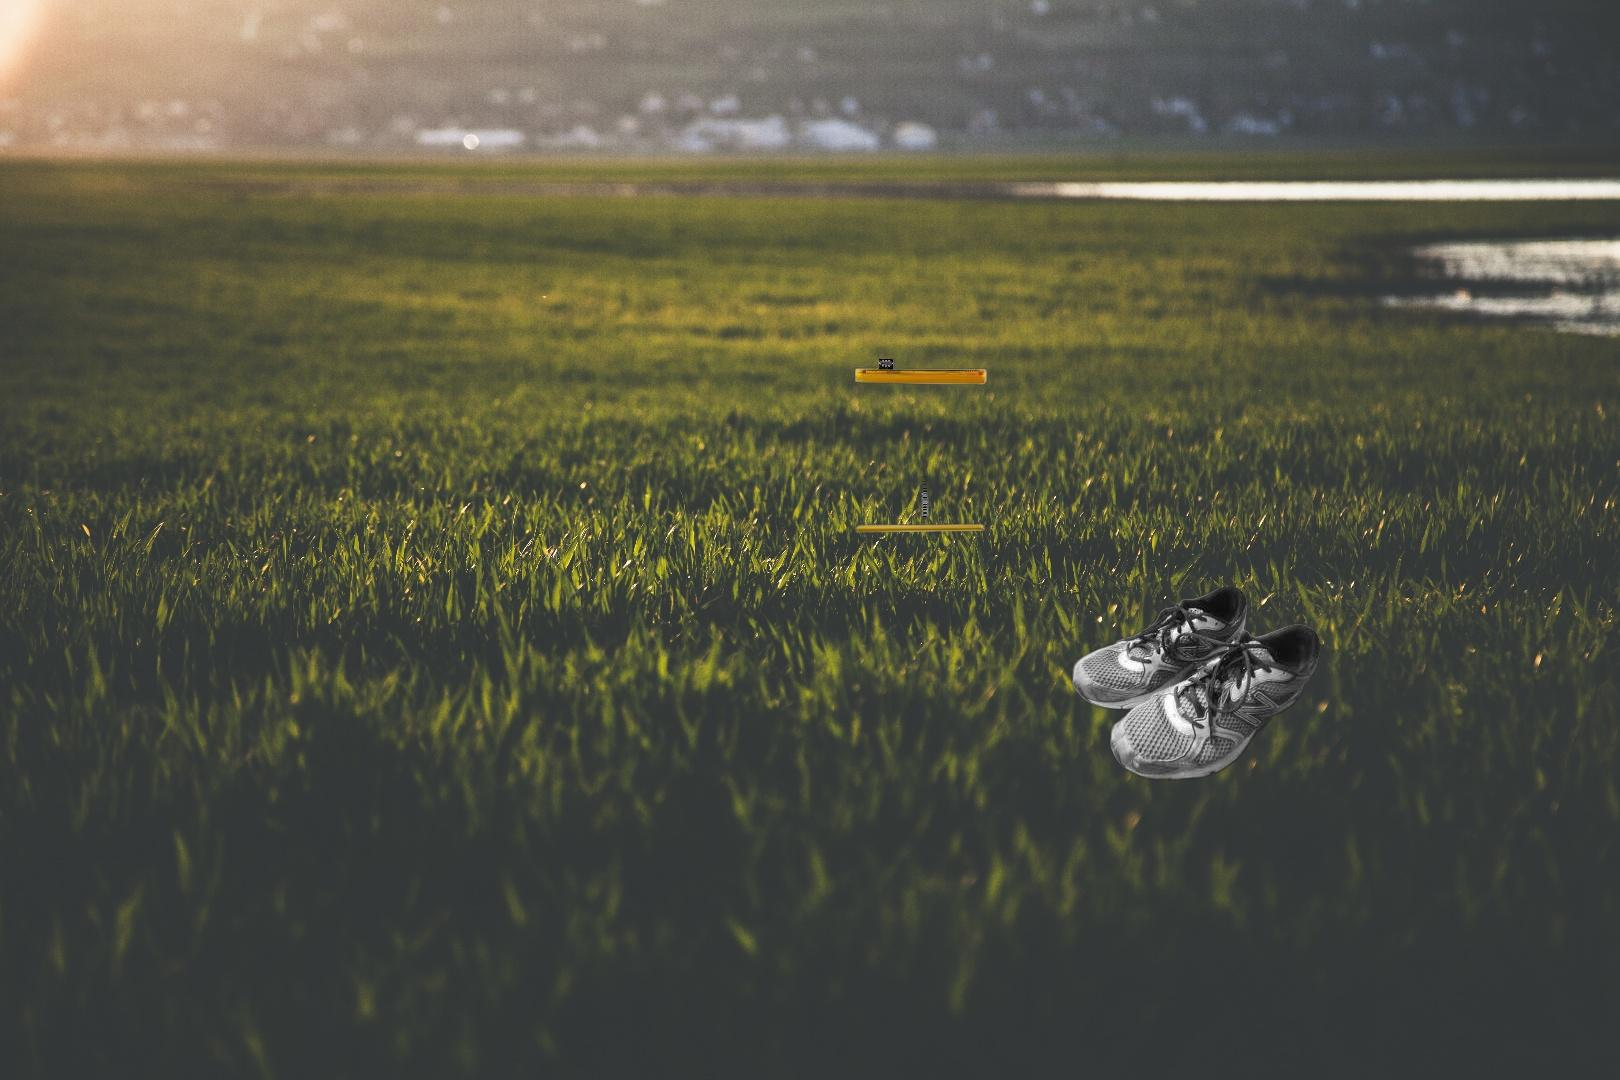battery: (791, 346, 1041, 539)
shoes: (1069, 587, 1323, 781)
